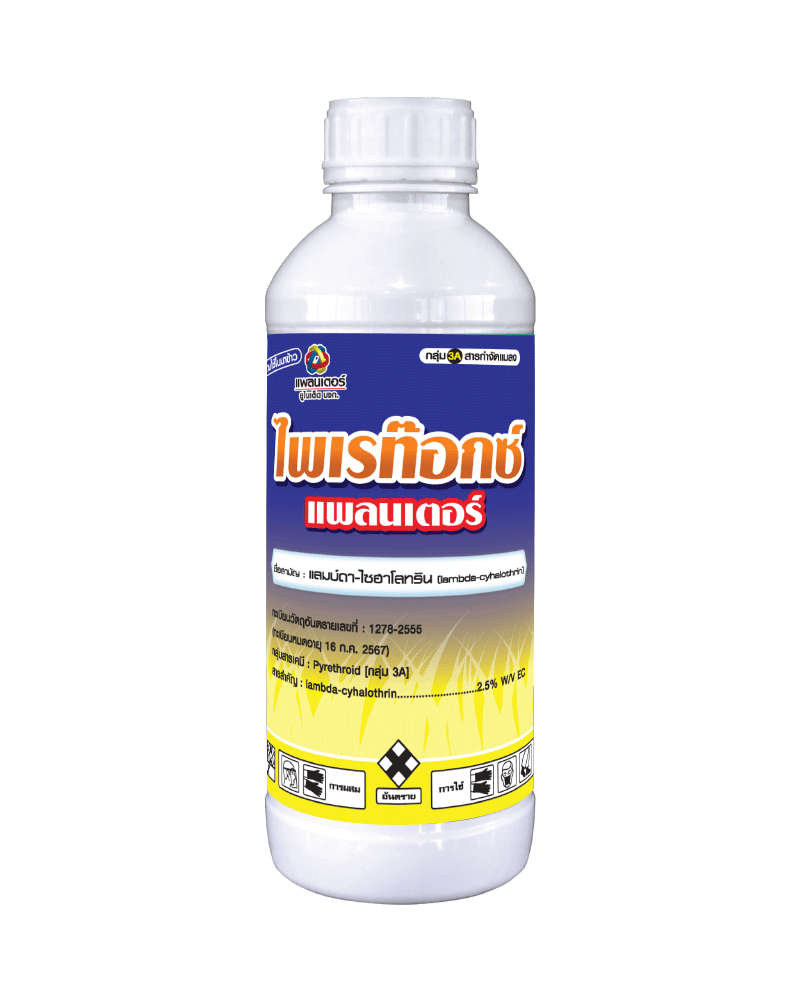Insecticide: (248, 88, 558, 918)
